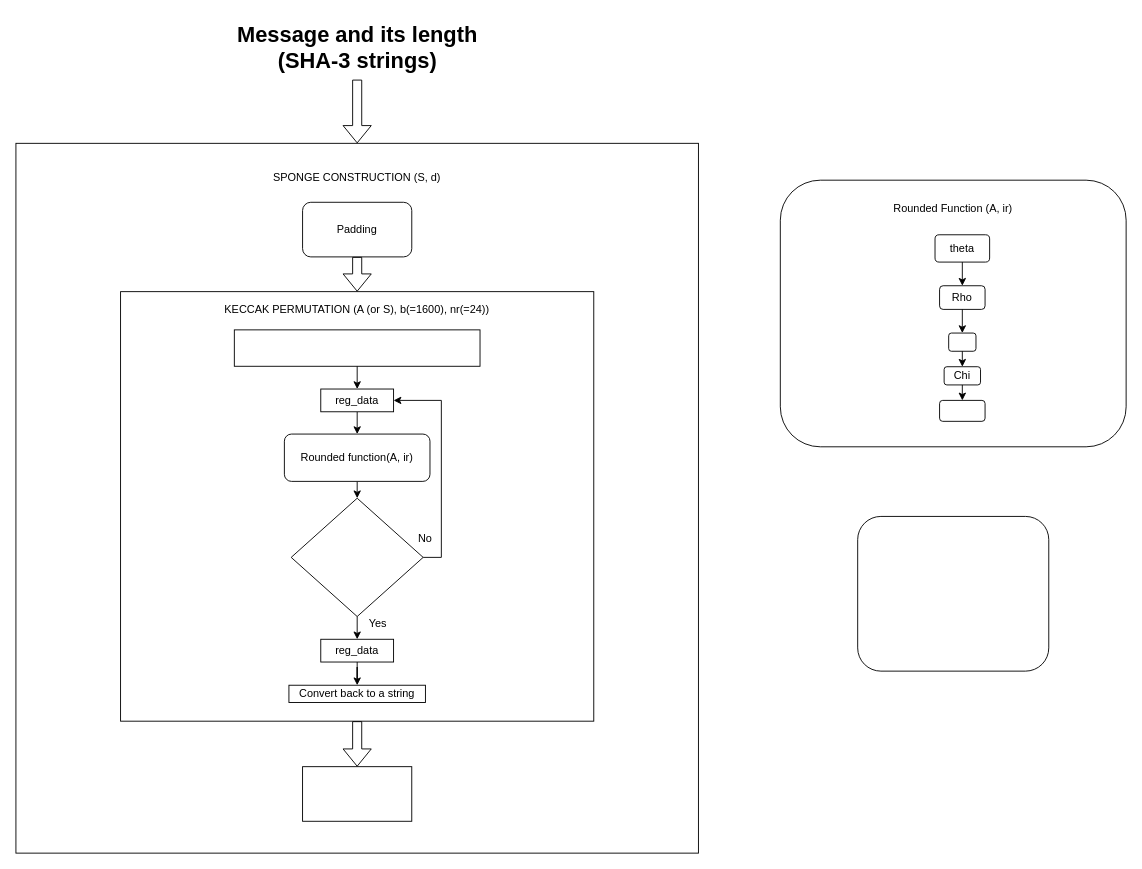
The diagram is 1142 pixels wide and 869 high, and some of its shapes have lost their labels. Here are the shapes that lost their labels. From the top down, the centre of each, then its label:
At point (356, 347): "State to Array conversion".
At point (962, 341): "pi".
At point (962, 410): "iota".
At point (356, 557): "ir==12+2l-1 (starts with 12+2l-nr)".
At point (953, 593): "Padding (??)".
At point (357, 793): "SQUEEZE".
